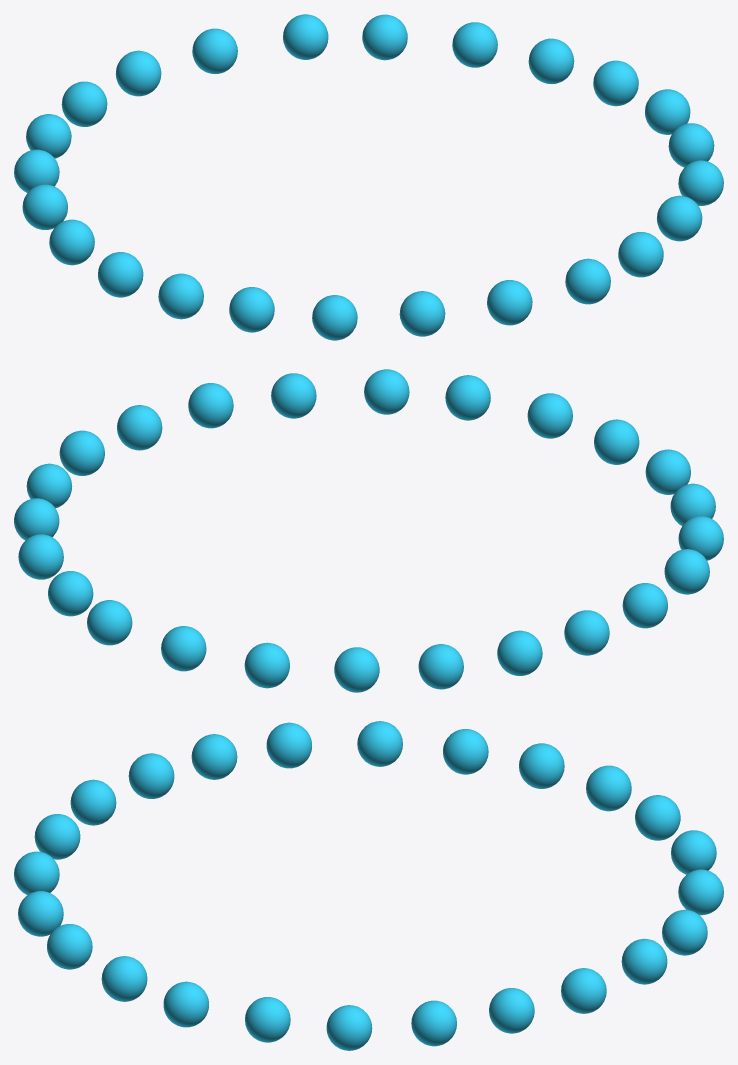
3 renders of one model, top to bottom at view 1: azimuth 30°, elevation 25°; view 2: azimuth 150°, elevation 25°; view 3: azimuth 270°, elevation 25°, orthographic.
Parts seen in each view (by area): view 1: Sphere048; view 2: Sphere048; view 3: Sphere048.
Part boxes in pixels (x1,y1,x2,y2): Sphere048: (14,14,723,340); Sphere048: (14,369,723,692); Sphere048: (14,721,723,1050).
Bounding box in the file's own units: 129 × 8.22 × 127.
